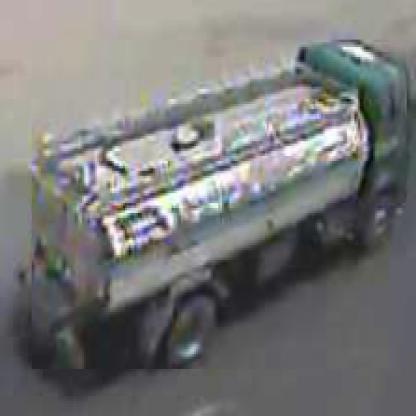truck: (31, 41, 408, 373)
